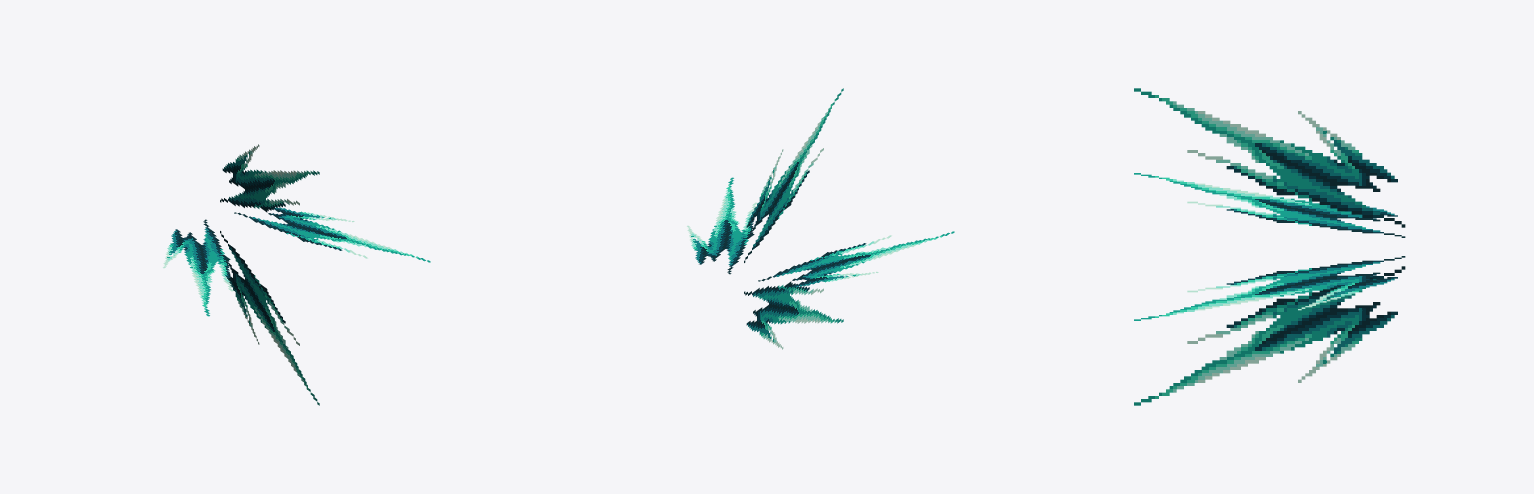
The model's file is vfx_gale_thrust_3.gltf.
3 renders of one model, left to right at view 1: azimuth 30°, elevation 25°; view 2: azimuth 150°, elevation 25°; view 3: azimuth 270°, elevation 25°, orthographic. The views are drawn at different scales.
Parts seen in each view (by area): view 1: cube (×4); view 2: cube (×4); view 3: cube (×4).
Boxes of the visible parts, x1=… form: cube (×4): x1=163, y1=144, x2=430, y2=405; cube (×4): x1=687, y1=88, x2=954, y2=349; cube (×4): x1=1134, y1=88, x2=1405, y2=405.
Size of the model in its own units: 2.25 by 2.25 by 2.
1 material, 1 textured.
